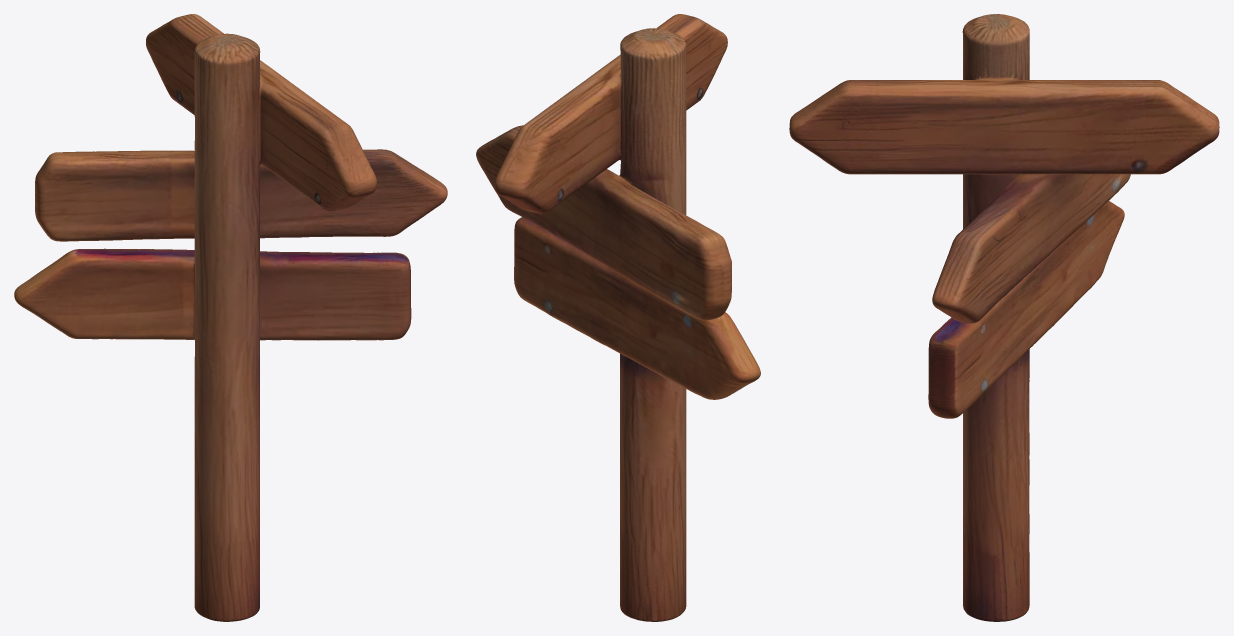
Rendered from signpost.glb.
3 renders of one model, left to right at view 1: azimuth 30°, elevation 25°; view 2: azimuth 150°, elevation 25°; view 3: azimuth 270°, elevation 25°, orthographic. The views are drawn at different scales.
Parts seen in each view (by area): view 1: tripo_node_9640fdba-de0d-409f-9c2c-45b71e819b23; view 2: tripo_node_9640fdba-de0d-409f-9c2c-45b71e819b23; view 3: tripo_node_9640fdba-de0d-409f-9c2c-45b71e819b23.
Part boxes in pixels (bbox=[...]): tripo_node_9640fdba-de0d-409f-9c2c-45b71e819b23: bbox=[14, 14, 447, 621]; tripo_node_9640fdba-de0d-409f-9c2c-45b71e819b23: bbox=[476, 14, 760, 621]; tripo_node_9640fdba-de0d-409f-9c2c-45b71e819b23: bbox=[789, 14, 1219, 621].
Bounding box in the file's own units: 0.6197 × 0.9491 × 0.6302.
1 material, 1 textured.
